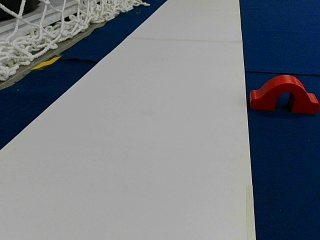bridge: (251, 74, 318, 111)
